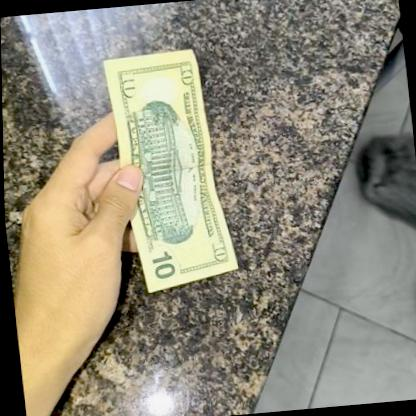ten-back: (100, 48, 236, 296)
